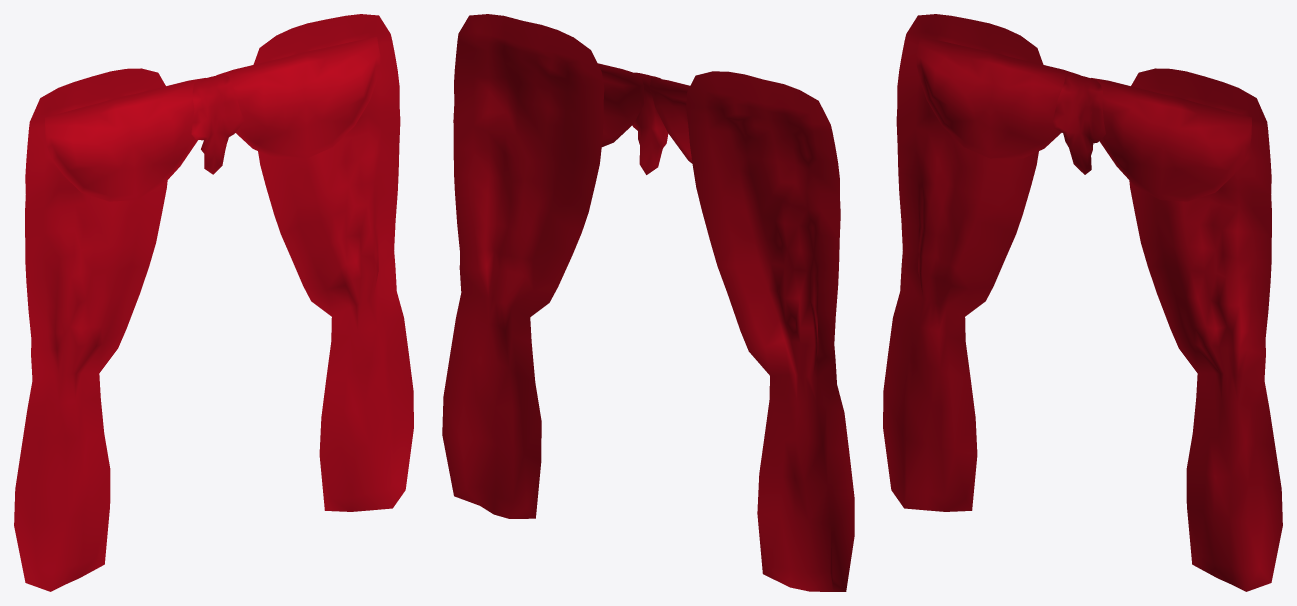
The model's file is 60_7_Curtains.fbx.
3 renders of one model, left to right at view 1: azimuth 30°, elevation 25°; view 2: azimuth 150°, elevation 25°; view 3: azimuth 330°, elevation 25°, orthographic. The views are drawn at different scales.
Visible parts, largest first — view 1: SM_Curtains_60_7; view 2: SM_Curtains_60_7; view 3: SM_Curtains_60_7.
Part boxes in pixels (left/top/right/bottom): SM_Curtains_60_7: left=14, top=14, right=413, bottom=591; SM_Curtains_60_7: left=442, top=14, right=854, bottom=591; SM_Curtains_60_7: left=883, top=14, right=1282, bottom=591.
Size of the model in its own units: 233 by 275 by 13.94.
